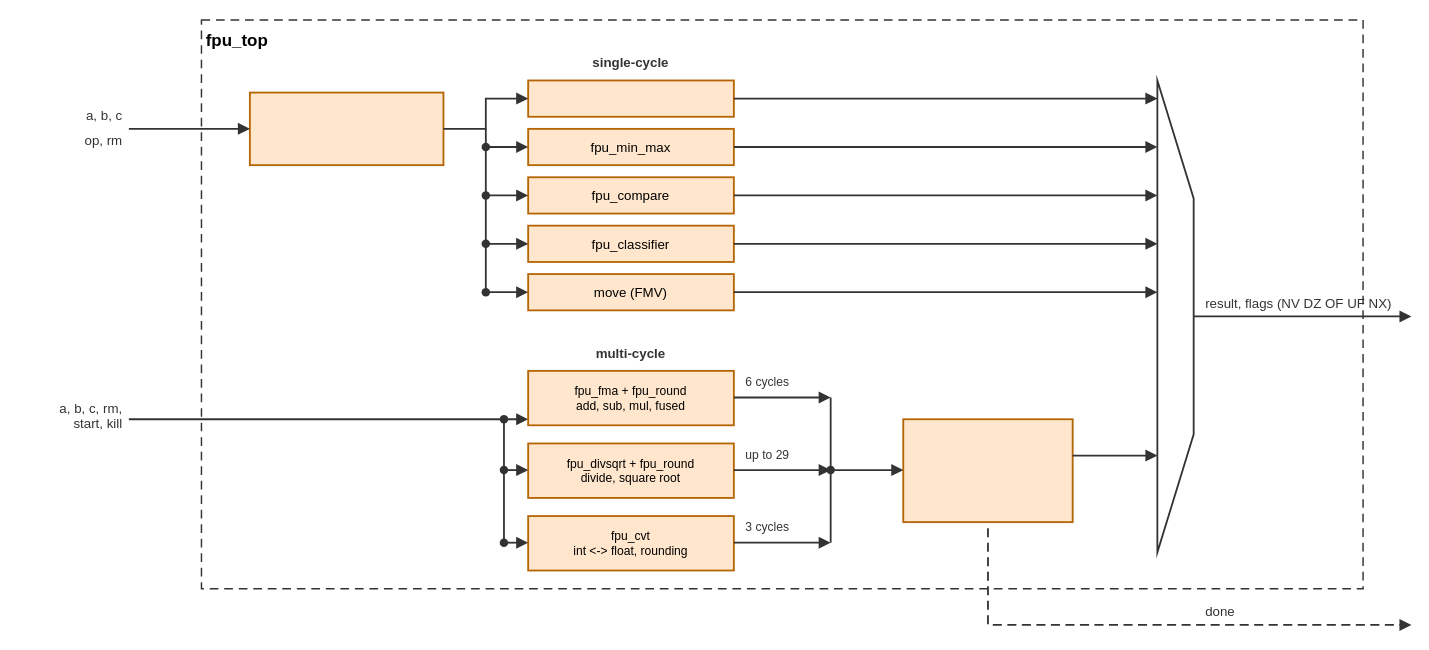
Image size: 1429x650. Some labels were removed from this diagram. The box of each missing label's shape, as (x1, y1, x2, y2) in pixels:
fpu_decoder (a, b) sign, exponent, class bits: (248, 91, 444, 166)
fpu_sign_inj: (527, 79, 734, 117)
Output register result, flags (rounding is not on the EX/MEM path): (902, 418, 1073, 522)
